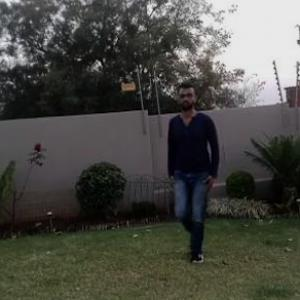follow: (167, 81, 216, 258)
